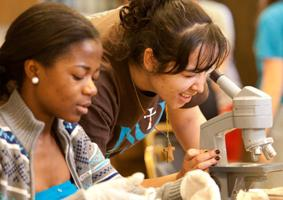person: (79, 2, 222, 191)
